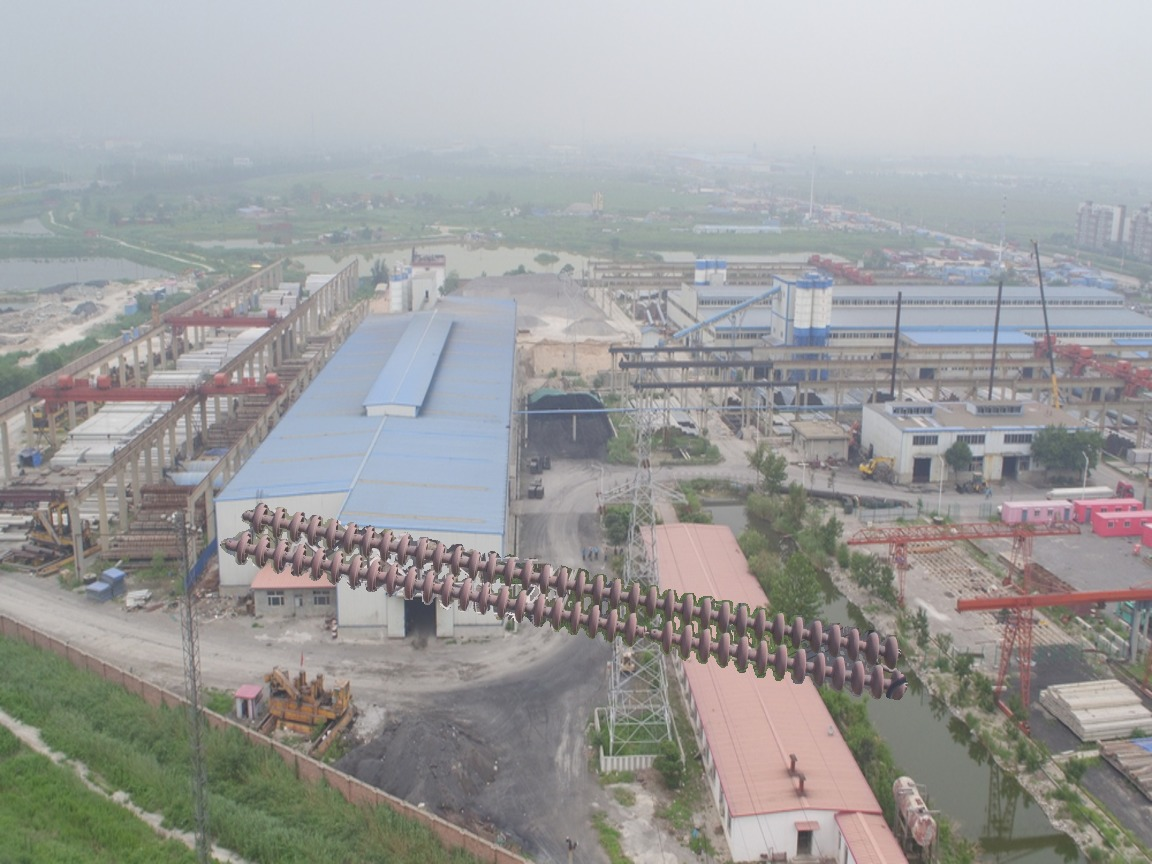defect: (615, 612, 680, 657)
